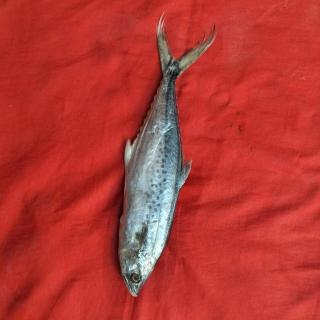Ikan: (110, 13, 210, 304)
